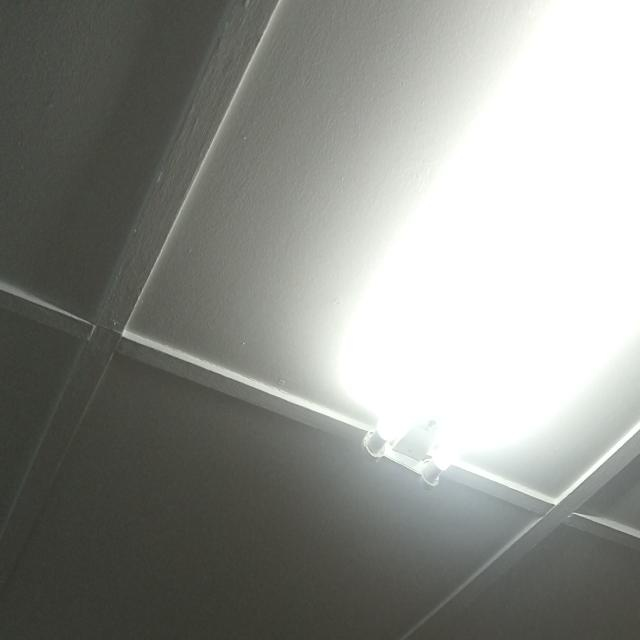fluorescent tube: (314, 0, 640, 501)
